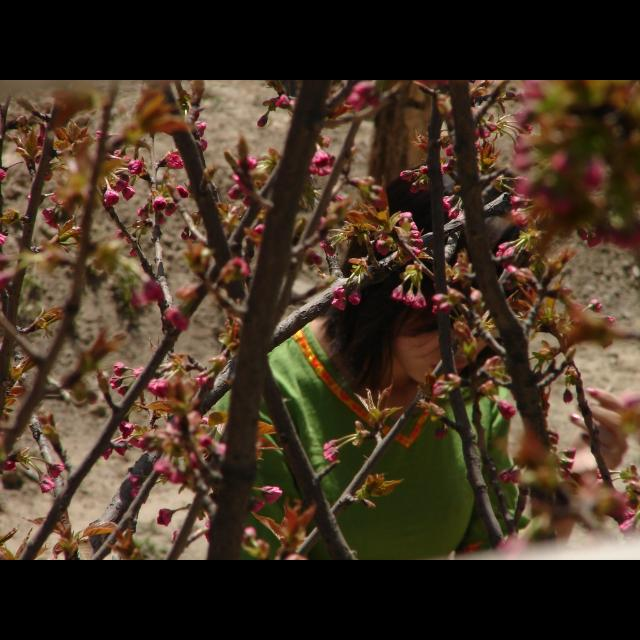Flower: (1, 82, 640, 560), (329, 268, 361, 314)
